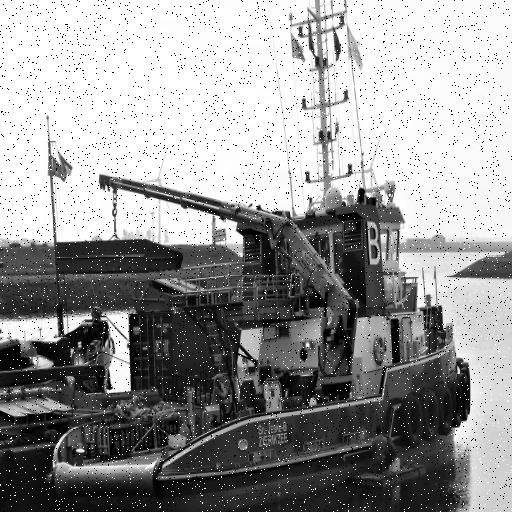tugboat: (49, 155, 479, 512)
